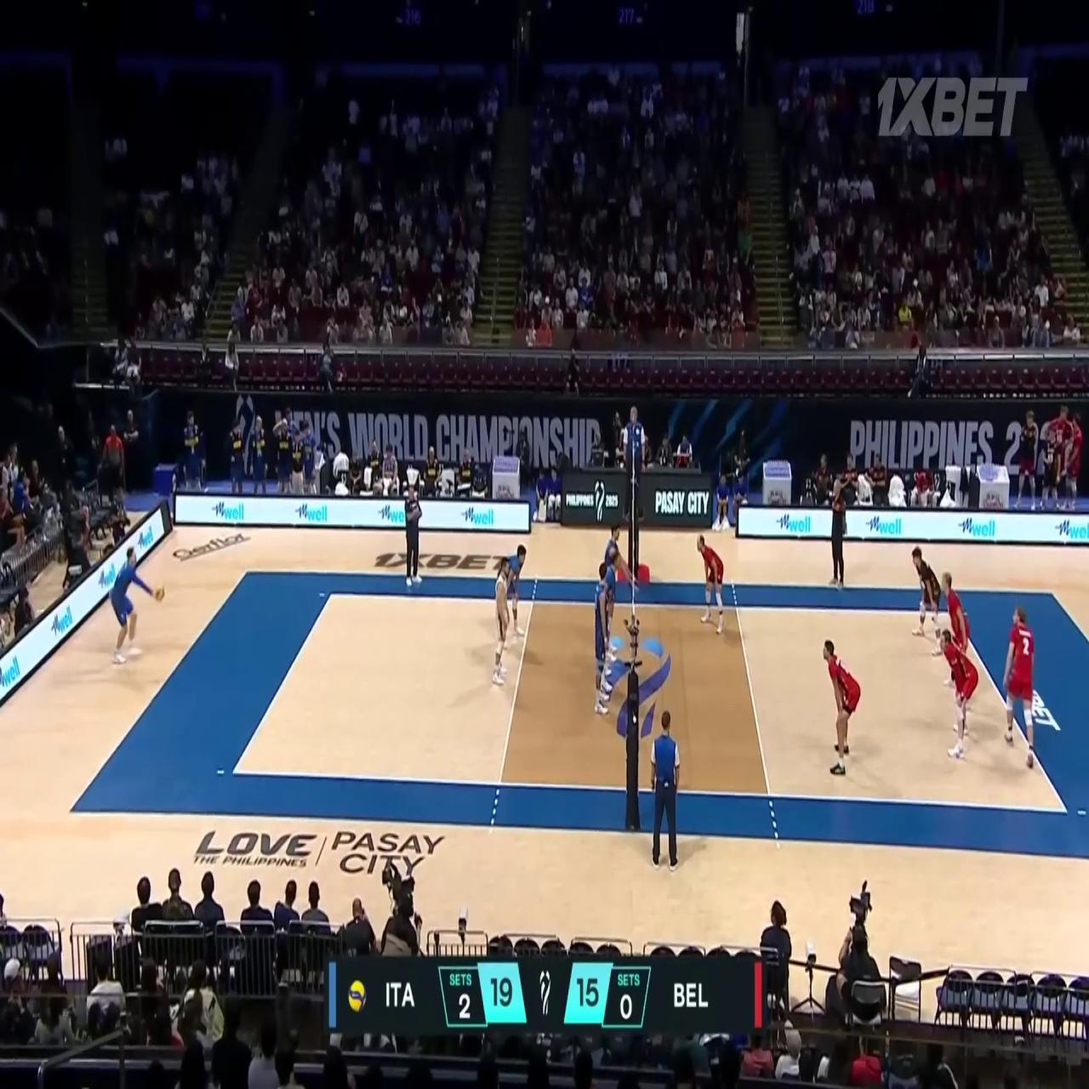ball: (155, 585, 165, 601)
